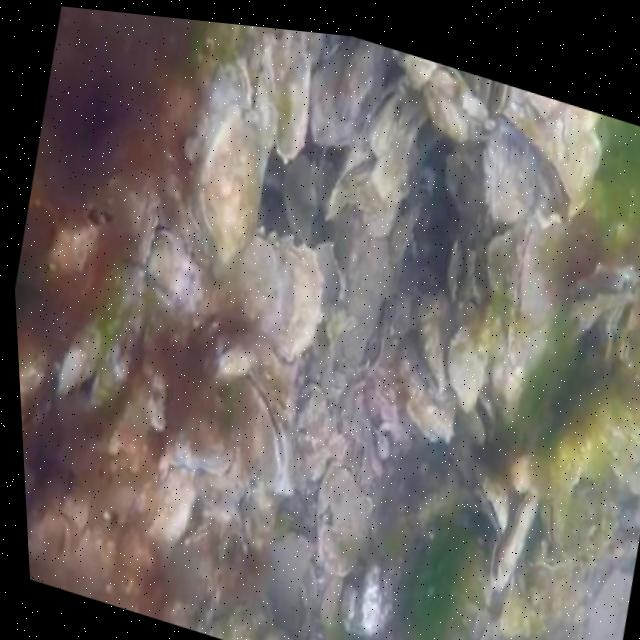Oyster-Closed: (121, 462, 197, 566), (396, 335, 459, 444), (167, 387, 239, 479), (273, 237, 323, 360), (316, 459, 367, 578), (510, 225, 567, 328), (422, 63, 492, 140), (527, 497, 590, 570), (110, 170, 159, 263), (416, 289, 457, 393), (496, 491, 538, 587), (342, 562, 392, 635), (468, 456, 509, 538), (364, 81, 406, 156), (539, 479, 567, 545), (458, 82, 490, 121), (184, 519, 213, 552), (237, 55, 252, 111), (627, 230, 640, 266)
Oyster-Indeterminate: (201, 105, 263, 263), (307, 37, 383, 149), (231, 227, 291, 338), (486, 119, 537, 226), (145, 230, 199, 315), (450, 324, 489, 412)
Oyster-Open: (234, 369, 285, 484), (326, 129, 374, 216), (17, 331, 51, 434), (56, 346, 97, 408), (459, 393, 495, 449), (481, 77, 507, 112)
